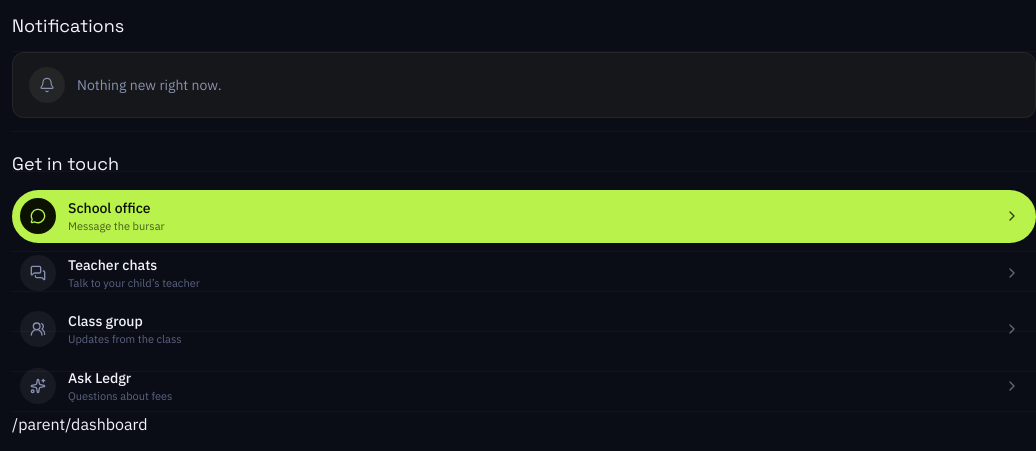
Scenario: ParentRail "Get in touch" › School office goes there on the first tap
Step 1. Click the link "School office Message the bursar" → (38, 216), box [12, 190, 1035, 242]
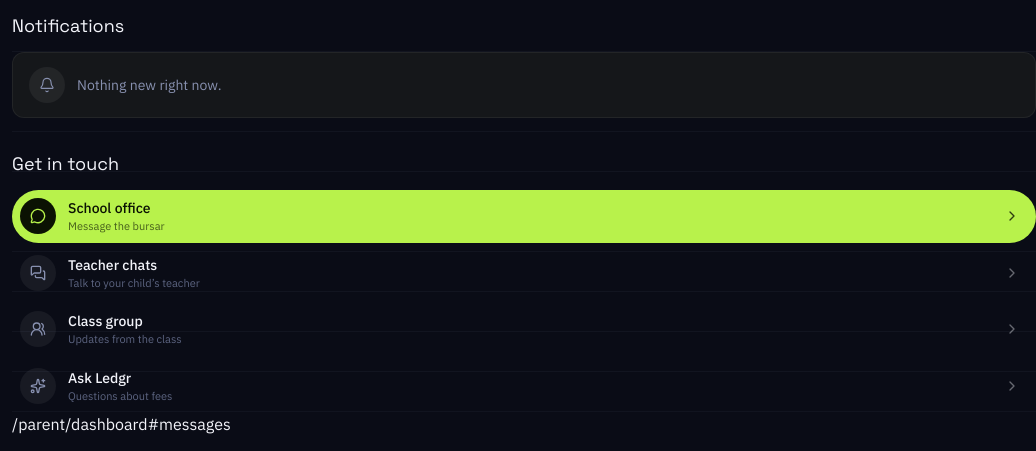
expect the text with test id "where" reads "/parent/dashboard#messages": met, box [12, 414, 231, 434]
